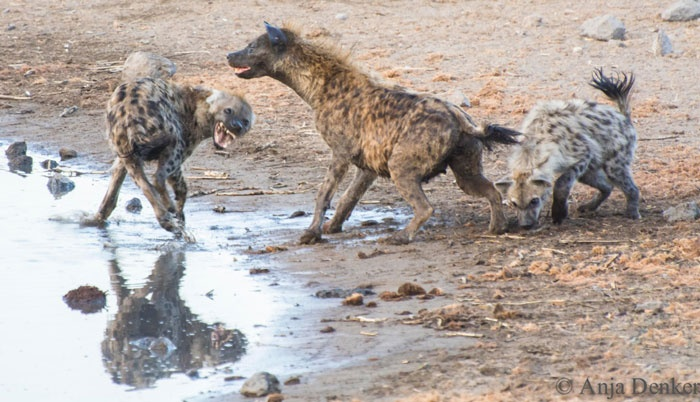hyna: (223, 14, 525, 249), (80, 73, 258, 244), (491, 63, 645, 233)
